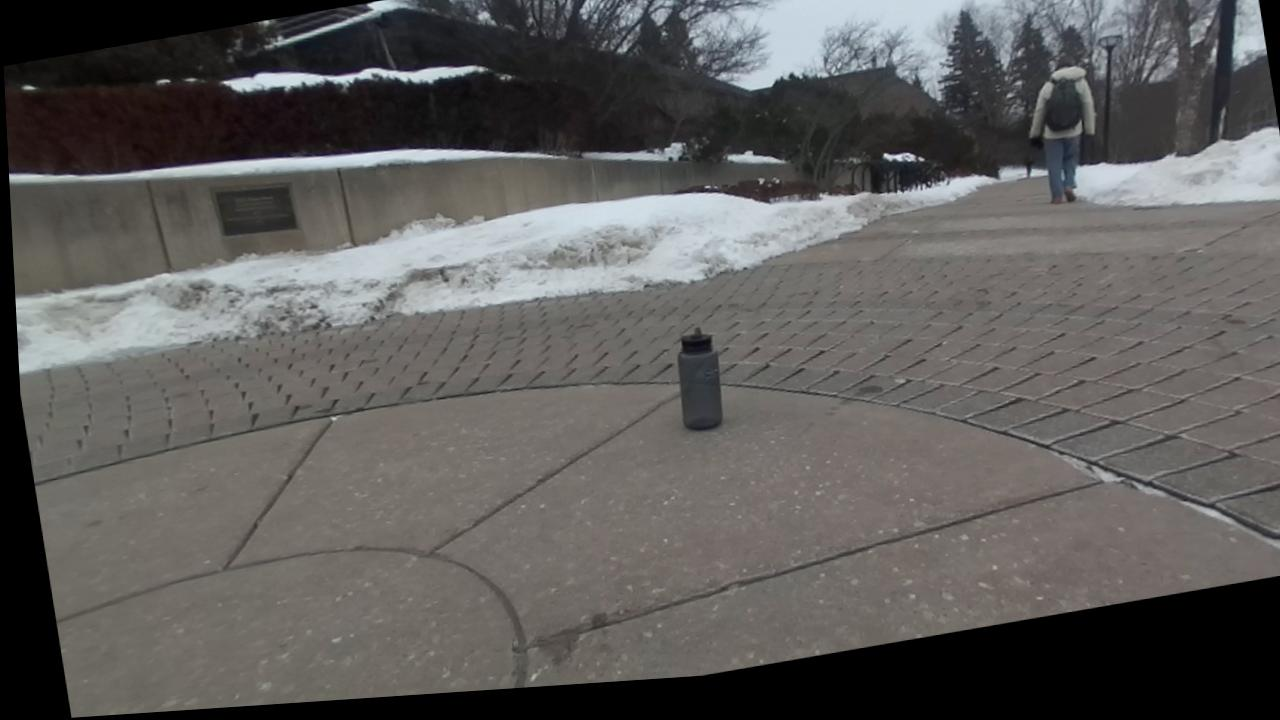bottle: (678, 327, 722, 429)
